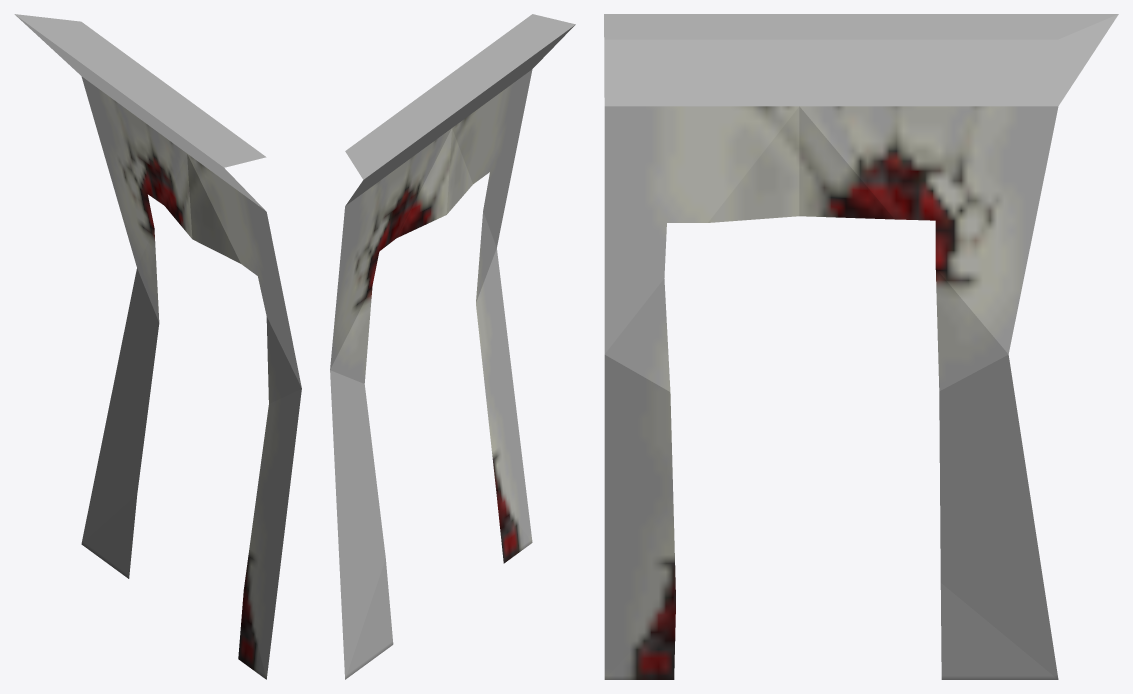
File: W_A2l_Tür [Verwahrlost]_1613.glb
The picture shows the model from 3 angles, left to right: view 1: azimuth 30°, elevation 25°; view 2: azimuth 150°, elevation 25°; view 3: azimuth 270°, elevation 25°; orthographic projection. The views are drawn at different scales.
Visible parts, largest first — view 1: polySurfaceShape1204, polySurfaceShape1206; view 2: polySurfaceShape1204, polySurfaceShape1206; view 3: polySurfaceShape1204, polySurfaceShape1206.
Part boxes in pixels (x1,y1,x2,y2): polySurfaceShape1204: [81, 76, 301, 679]; polySurfaceShape1206: [14, 14, 266, 210]; polySurfaceShape1204: [330, 69, 532, 679]; polySurfaceShape1206: [345, 14, 575, 205]; polySurfaceShape1204: [604, 106, 1058, 679]; polySurfaceShape1206: [604, 14, 1118, 106].
Bounding box in the file's own units: 0.0607 × 0.3891 × 0.2836.
2 materials, 1 textured.
